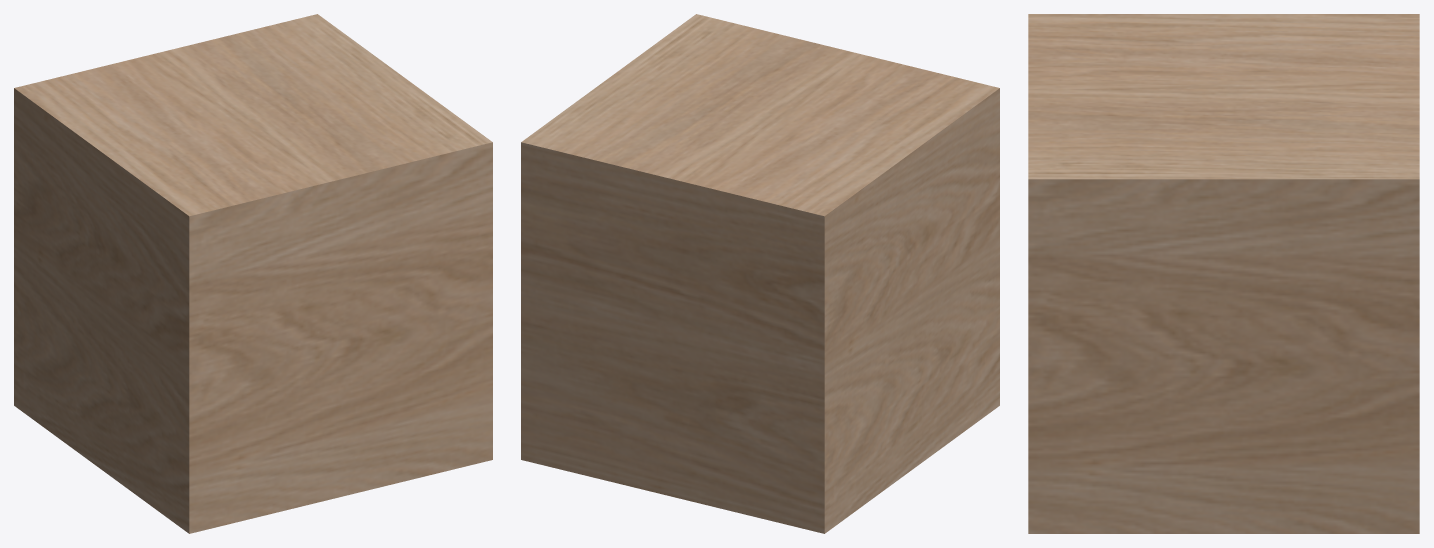
3 renders of one model, left to right at view 1: azimuth 30°, elevation 25°; view 2: azimuth 150°, elevation 25°; view 3: azimuth 270°, elevation 25°, orthographic. The views are drawn at different scales.
Parts seen in each view (by area): view 1: Tile; view 2: Tile; view 3: Tile.
Part boxes in pixels (x1=…): Tile: x1=14, y1=14, x2=492, y2=533; Tile: x1=521, y1=14, x2=999, y2=533; Tile: x1=1028, y1=14, x2=1419, y2=533.
Bounding box in the file's own units: 1 × 1 × 1.
1 material, 1 textured.
